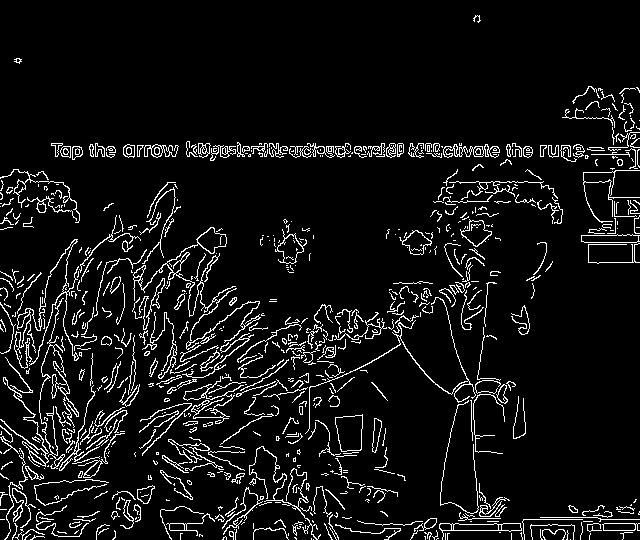rune_box: (154, 191, 567, 290)
